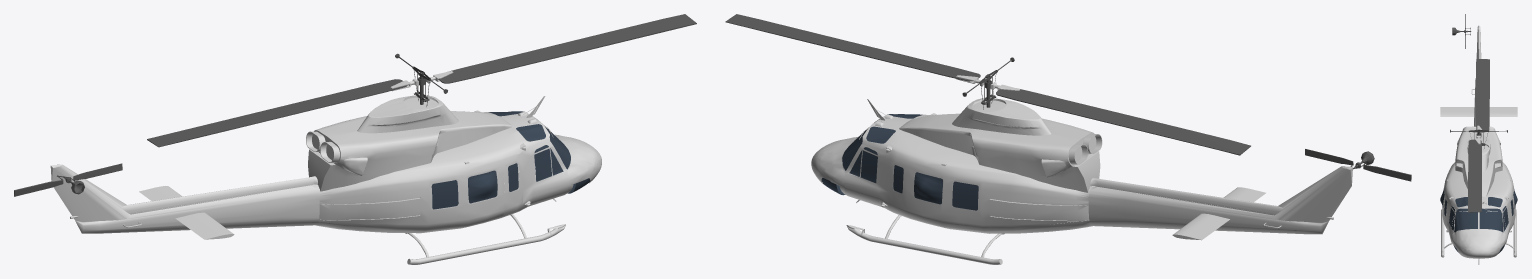
The picture shows the model from 3 angles, left to right: view 1: azimuth 30°, elevation 25°; view 2: azimuth 150°, elevation 25°; view 3: azimuth 270°, elevation 25°; orthographic projection. The views are drawn at different scales.
Parts seen in each view (by area): view 1: body, spin (×2), glass; view 2: body, spin (×2), glass; view 3: body, spin (×2), glass.
Boxes of the visible parts, left/top/right/bottom form: body: left=50, top=71, right=601, bottom=264; spin (×2): left=14, top=14, right=696, bottom=196; glass: left=431, top=111, right=590, bottom=209; body: left=811, top=75, right=1352, bottom=264; spin (×2): left=725, top=14, right=1411, bottom=181; glass: left=821, top=114, right=978, bottom=210; body: left=1440, top=25, right=1517, bottom=264; spin (×2): left=1450, top=14, right=1507, bottom=212; glass: left=1440, top=188, right=1517, bottom=253.
Bounding box in the file's own units: 2.2 × 0.5175 × 0.3661.
